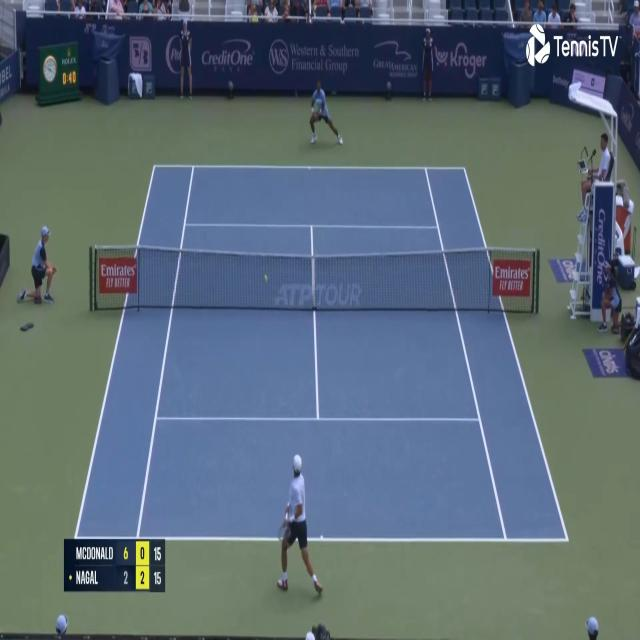tennis-player: (274, 450, 326, 603), (306, 75, 346, 151)
